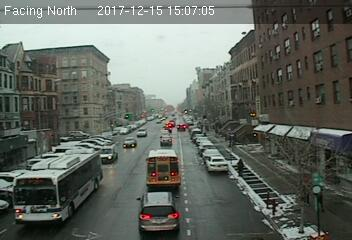bus: (11, 151, 104, 226)
car: (136, 189, 182, 233), (97, 143, 117, 163), (205, 156, 227, 171), (122, 137, 137, 148), (159, 135, 173, 145), (176, 123, 186, 131)
truck: (146, 149, 179, 185)
